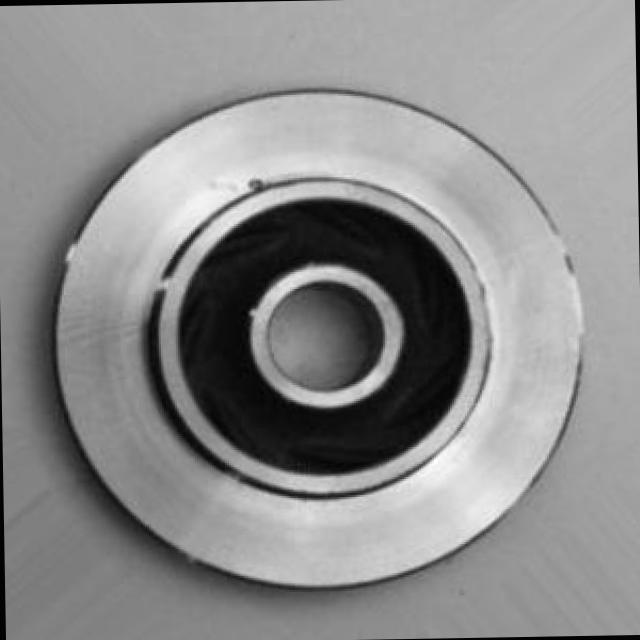Defect: (242, 171, 276, 199)
